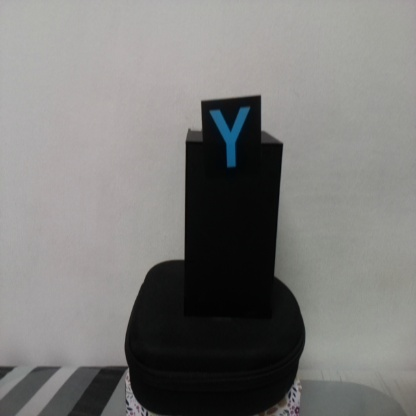id_14: (201, 99, 262, 180)
